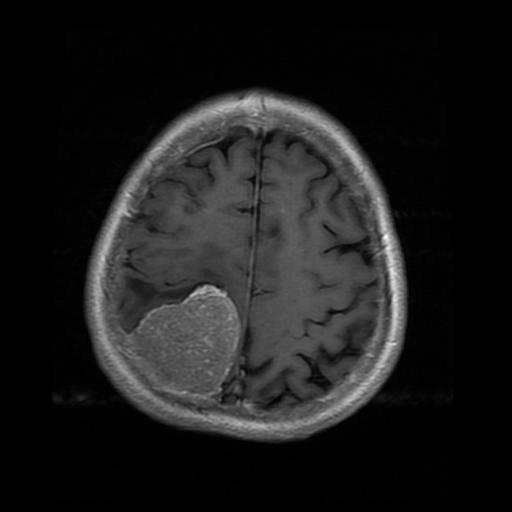Tumour-Meningioma: (121, 264, 259, 416)
